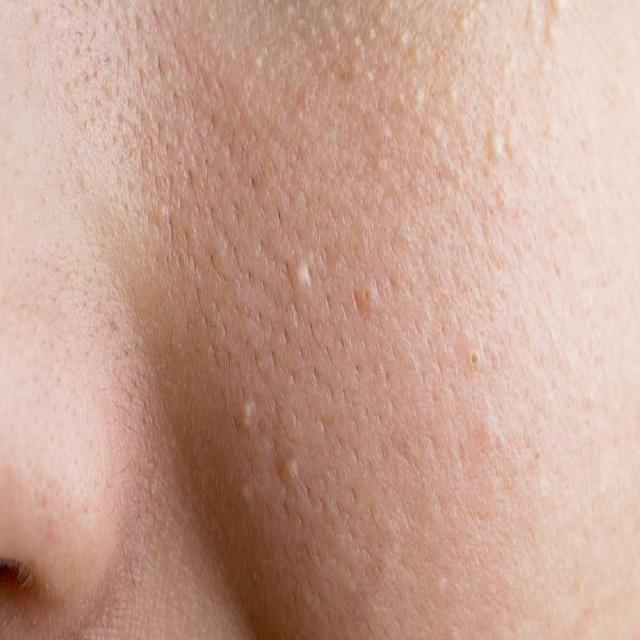acne: (246, 0, 608, 571)
